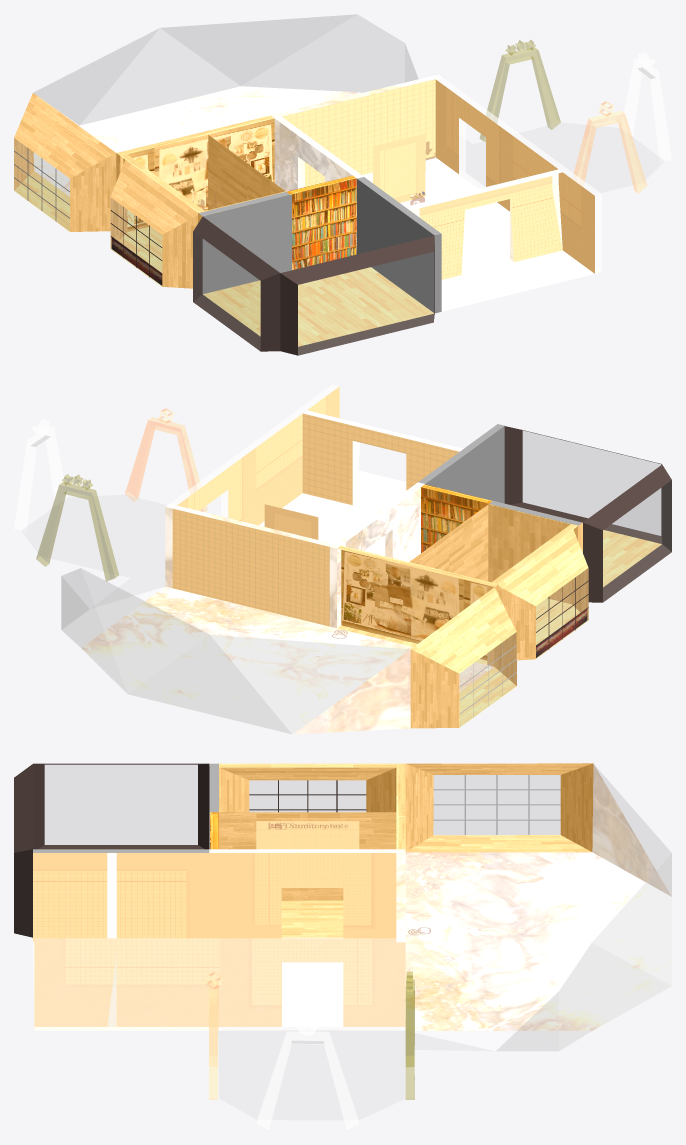
File: escenario.glb
3 views of the same model, one above another, from view 1: azimuth 30°, elevation 25°; view 2: azimuth 150°, elevation 25°; view 3: azimuth 270°, elevation 25° (orthographic). The views are drawn at different scales.
Visible parts, largest first — view 1: Walls, Floor_Main, Murolienzo.001, MyEntrance, PuertaSecreta_Espejo, Muro_gal_salida, Objetoañadido, Muro_entrada.004, Muro_hab_salida, PuertaGallery, Portal_Revelation, Muro_entrada.003 (+1 smaller); view 2: Walls, Floor_Main, Murolienzo.002, MyEntrance_gal, PuertaGallery, Muro_entrada.003, Muro_hab_salida, Muro_gal_salida, Portal_Revelation, PuertaSecreta_Espejo, PuertaDorm, Objetoañadido (+1 smaller); view 3: Walls, Floor_Main, Muro_gal_salida, Muro_hab_entrada, Muro_entrada.003, Muro_entrada.002, Muro_entrada.004, Muro_entrada.001, Selfnotemesh, PuertaDorm, Portal_Revelation.
Boxes of the visible parts, x1,y1,x2,y2 form: Walls: (14, 14, 671, 355); Floor_Main: (14, 86, 664, 355); Murolienzo.001: (282, 79, 435, 186); MyEntrance: (419, 176, 562, 279); PuertaSecreta_Espejo: (286, 175, 356, 270); Muro_gal_salida: (435, 79, 513, 211); Objetoañadido: (373, 133, 425, 202); Muro_entrada.004: (558, 172, 594, 273); Muro_hab_salida: (274, 119, 356, 254); PuertaGallery: (208, 118, 274, 182); Portal_Revelation: (480, 40, 560, 141); Muro_entrada.003: (513, 136, 557, 180); Walls: (14, 384, 671, 734); Floor_Main: (22, 470, 671, 734); Murolienzo.002: (172, 508, 329, 626); MyEntrance_gal: (302, 413, 459, 505); PuertaGallery: (341, 550, 409, 641); Muro_entrada.003: (256, 414, 302, 525); Muro_hab_salida: (337, 487, 420, 627); Muro_gal_salida: (177, 447, 256, 524); Portal_Revelation: (36, 474, 118, 581); PuertaSecreta_Espejo: (421, 484, 492, 552); PuertaDorm: (449, 504, 488, 581); Objetoañadido: (264, 504, 318, 539); Walls: (14, 763, 671, 1129); Floor_Main: (33, 835, 671, 1119); Muro_gal_salida: (220, 938, 405, 1026); Muro_hab_entrada: (219, 853, 396, 938); Muro_entrada.003: (117, 938, 219, 1026); Muro_entrada.002: (116, 853, 219, 938); Muro_entrada.004: (34, 938, 117, 1026); Muro_entrada.001: (33, 853, 116, 941); Selfnotemesh: (256, 821, 359, 887); PuertaDorm: (219, 812, 307, 900); Portal_Revelation: (405, 972, 414, 1099).
Size of what is drawn, in the model's own units: 6.45 by 1.15 by 6.17.
Materials: 53 (41 with a texture image).
